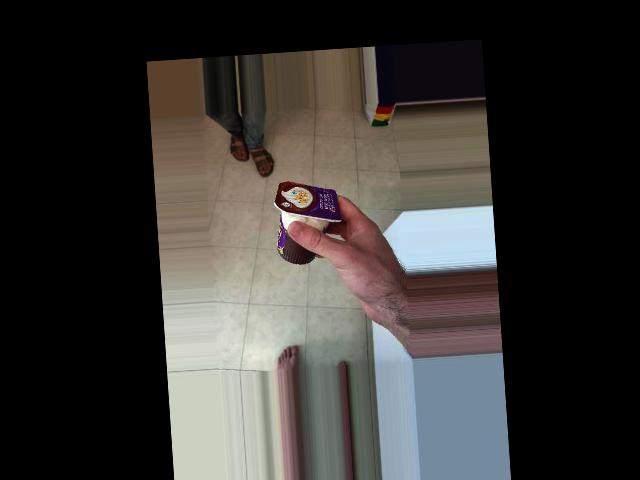milky: (241, 172, 332, 239)
